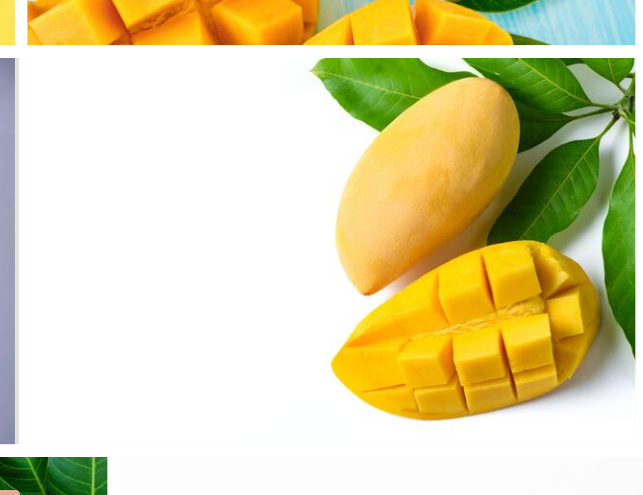mango: (334, 76, 519, 297)
